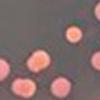pink: (48, 74, 73, 100), (62, 23, 85, 49), (30, 48, 53, 69), (19, 76, 38, 100), (23, 56, 42, 76), (87, 46, 100, 75), (0, 54, 11, 85), (11, 78, 25, 96), (91, 0, 99, 24)
